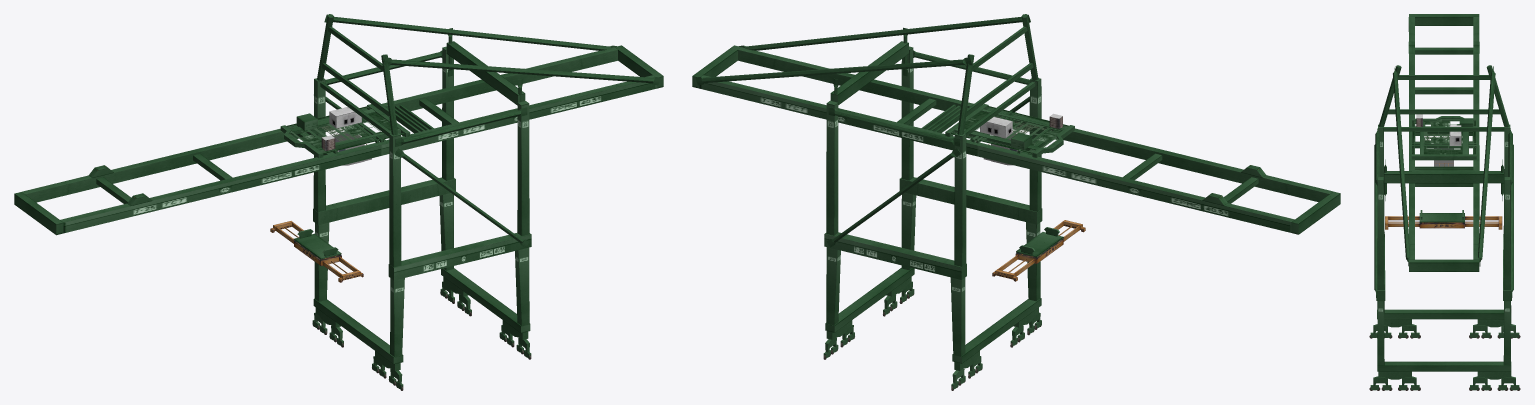
File: 3Dguoji_xp_longmendiao01_ljw.FBX
3 views of the same model, side by side, from view 1: azimuth 30°, elevation 25°; view 2: azimuth 150°, elevation 25°; view 3: azimuth 270°, elevation 25° (orthographic). The views are drawn at different scales.
Parts seen in each view (by area): view 1: 3Dguoji_XP_longmendiao_ljw01, 3Dguoji_XP_longmendiao_ljw02, 3Dguoji_XP_longmendiao_ljw03; view 2: 3Dguoji_XP_longmendiao_ljw01, 3Dguoji_XP_longmendiao_ljw02, 3Dguoji_XP_longmendiao_ljw03; view 3: 3Dguoji_XP_longmendiao_ljw01, 3Dguoji_XP_longmendiao_ljw02, 3Dguoji_XP_longmendiao_ljw03.
Part boxes in pixels (x1=…): 3Dguoji_XP_longmendiao_ljw01: x1=14, y1=14, x2=663, y2=389; 3Dguoji_XP_longmendiao_ljw02: x1=280, y1=104, x2=410, y2=165; 3Dguoji_XP_longmendiao_ljw03: x1=270, y1=221, x2=363, y2=282; 3Dguoji_XP_longmendiao_ljw01: x1=692, y1=14, x2=1340, y2=389; 3Dguoji_XP_longmendiao_ljw02: x1=945, y1=104, x2=1074, y2=165; 3Dguoji_XP_longmendiao_ljw03: x1=992, y1=220, x2=1085, y2=281; 3Dguoji_XP_longmendiao_ljw01: x1=1370, y1=14, x2=1519, y2=390; 3Dguoji_XP_longmendiao_ljw02: x1=1411, y1=114, x2=1476, y2=166; 3Dguoji_XP_longmendiao_ljw03: x1=1385, y1=210, x2=1502, y2=229.
Size of the model in its own units: 66.19 by 33.78 by 16.99.
